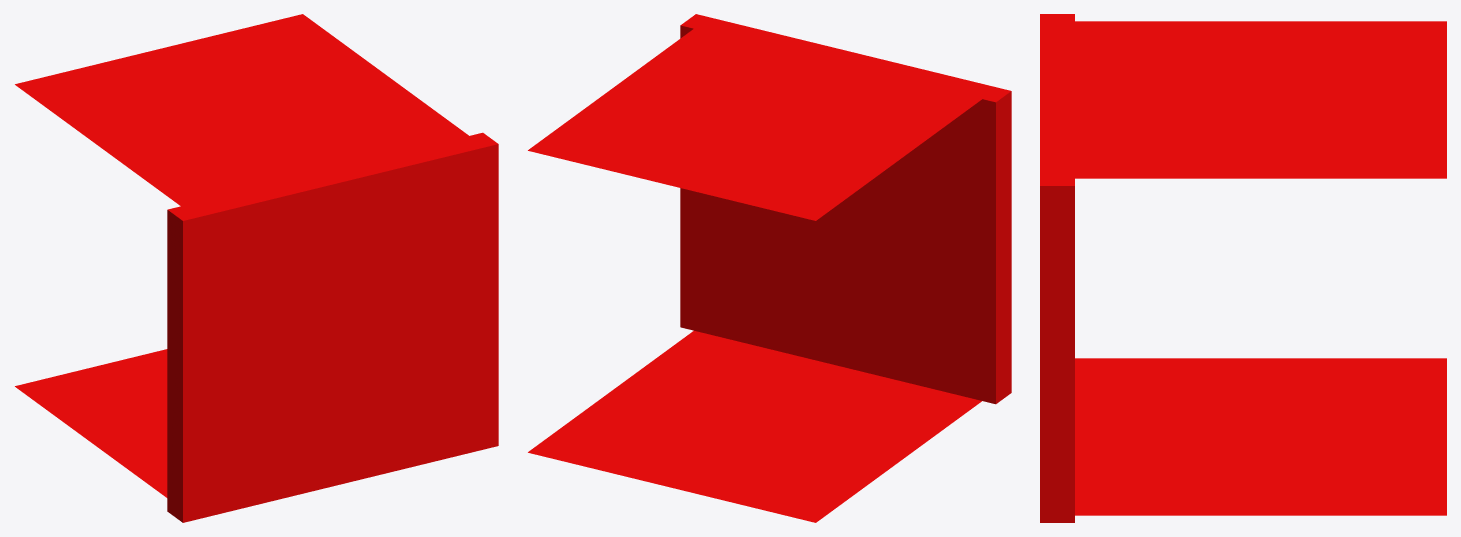
File: cave_corridor_t.dae
The picture shows the model from 3 angles, left to right: view 1: azimuth 30°, elevation 25°; view 2: azimuth 150°, elevation 25°; view 3: azimuth 270°, elevation 25°; orthographic projection. The views are drawn at different scales.
Parts seen in each view (by area): view 1: Cube, Plane.001, Plane; view 2: Cube, Plane, Plane.001; view 3: Plane.001, Plane, Cube.
Part boxes in pixels (box(x1,y1,x2,y2)): Cube: box(167, 132, 498, 522); Plane.001: box(15, 14, 468, 206); Plane: box(15, 349, 167, 497); Cube: box(680, 14, 1011, 404); Plane: box(528, 330, 981, 522); Plane.001: box(528, 29, 981, 220); Plane.001: box(1075, 21, 1446, 178); Plane: box(1075, 358, 1446, 515); Cube: box(1040, 14, 1074, 522).
Size of the model in its own units: 280 by 280 by 256.
